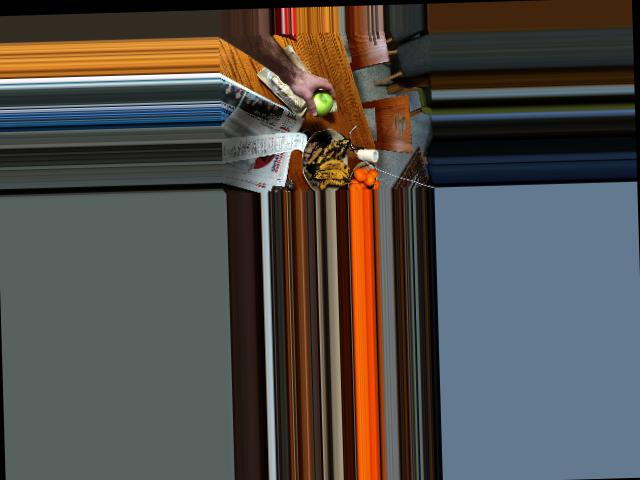apple: (308, 83, 334, 115)
